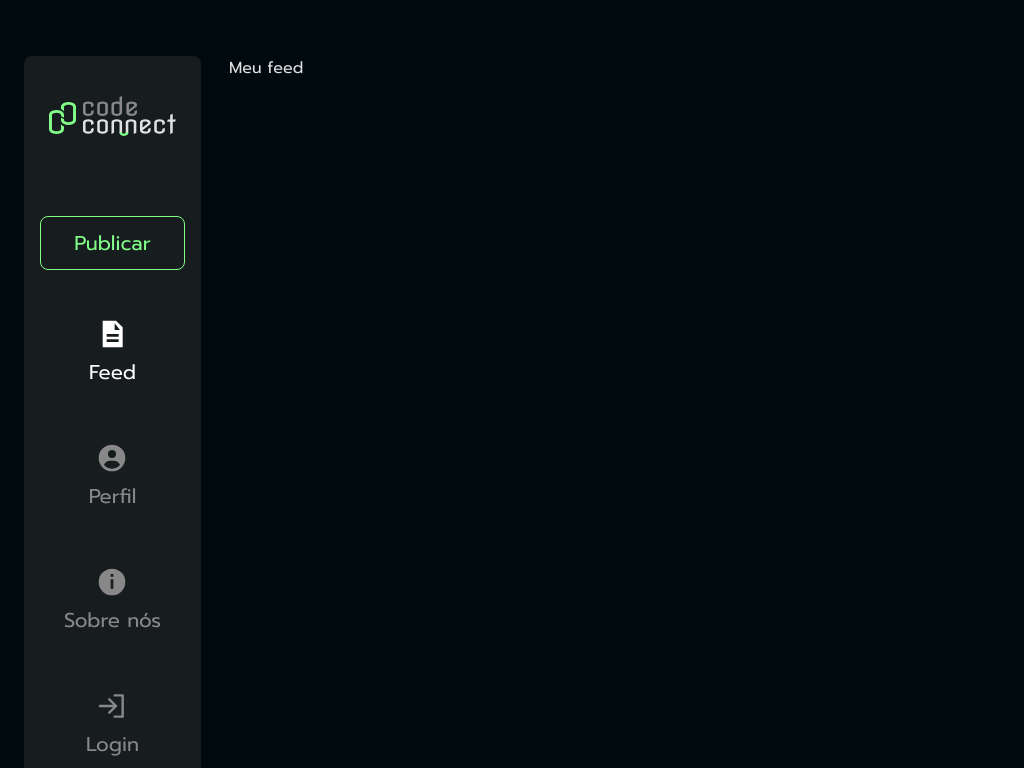
composes navigation, branding and its page content
Expected: the navigation bar named "Navegação principal" is shown, [48,310,177,766]
Click the button "Sobre nós": click(112, 600) [48,558,177,642]
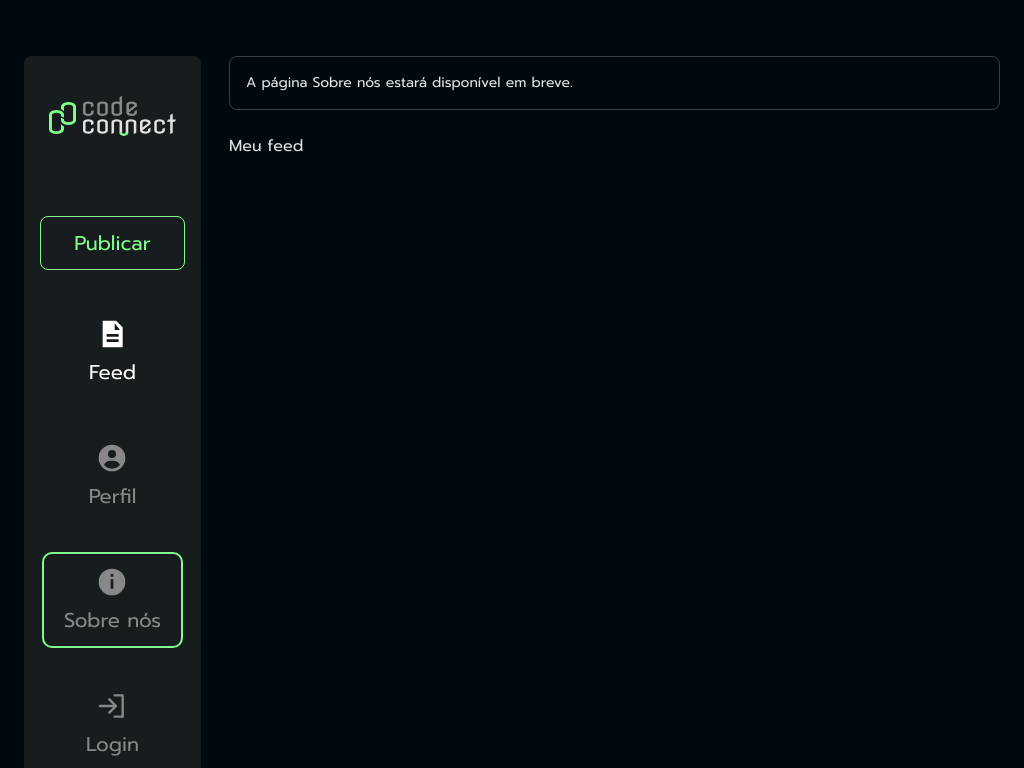
Expected: the message shows "estará disponível em breve", [246,72,573,93]
